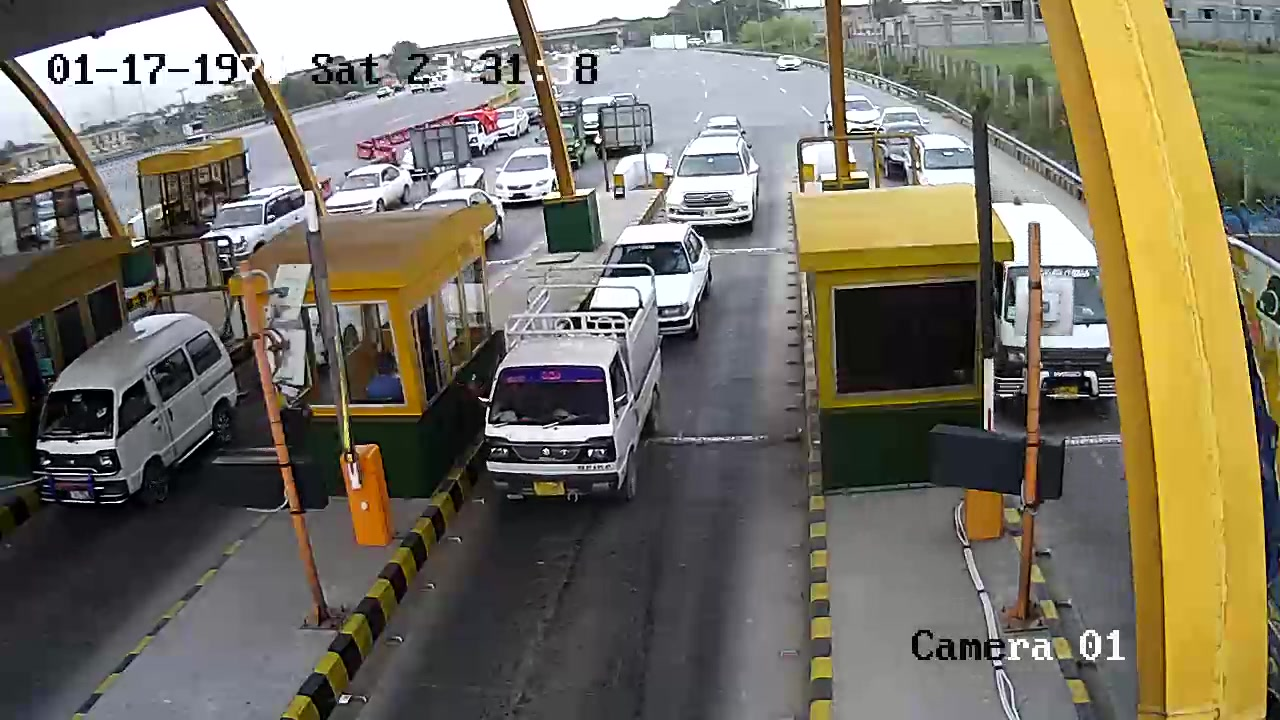F1: (483, 259, 663, 521)
